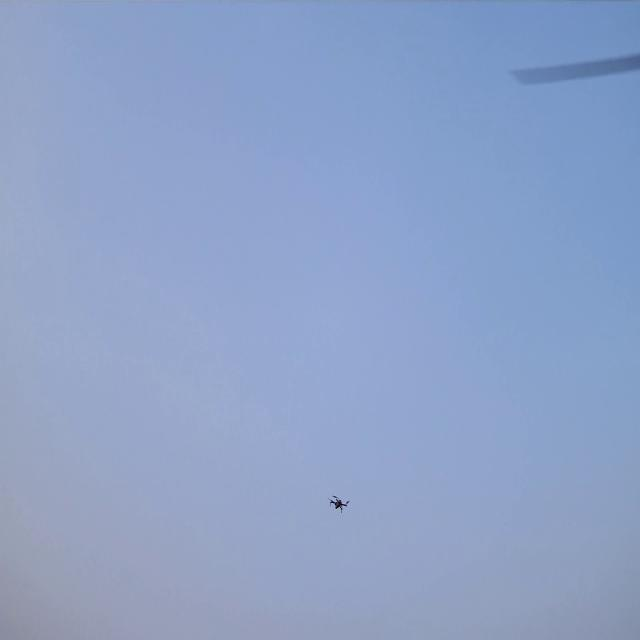UAV: (330, 496, 348, 512)
